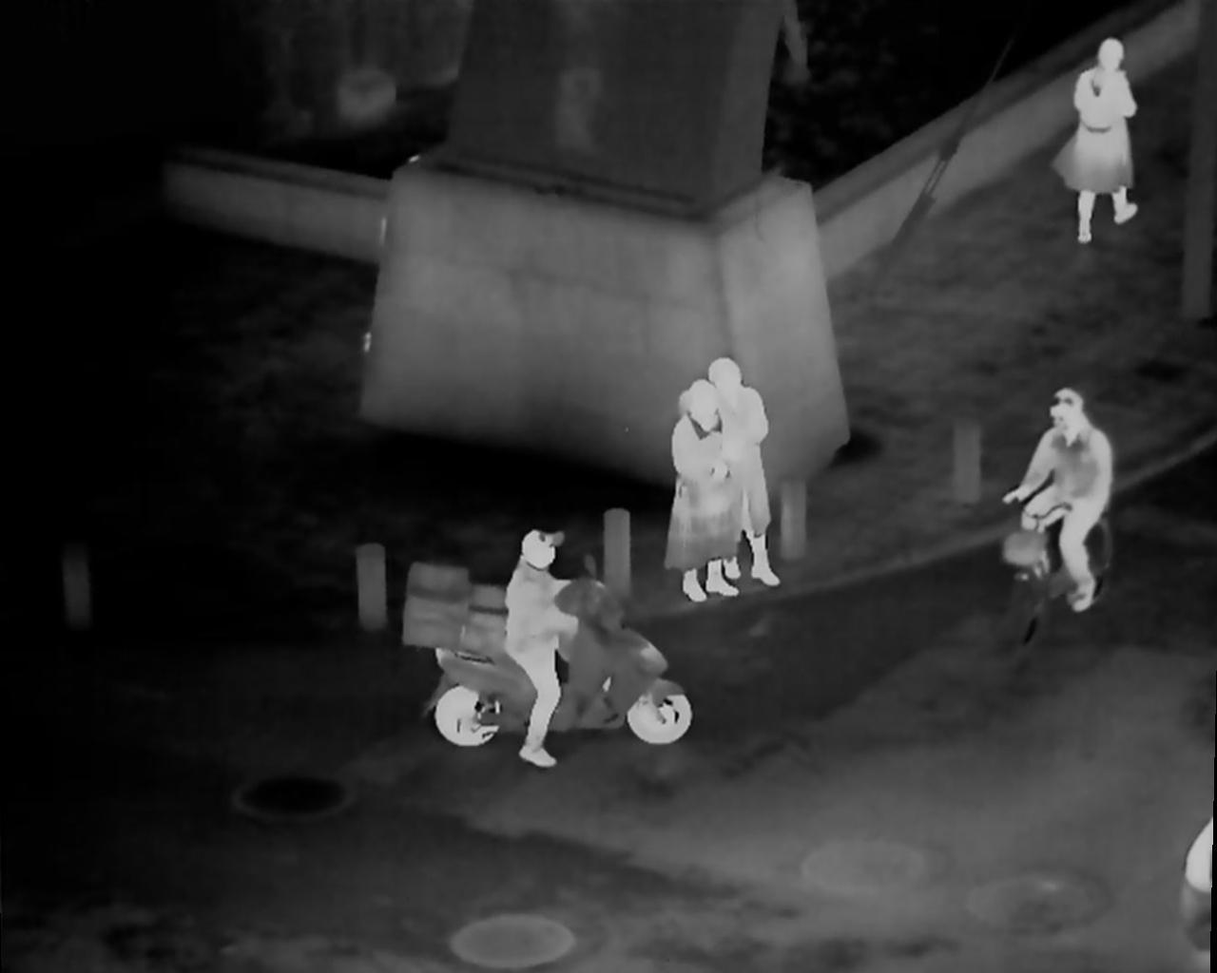person: (1006, 390, 1114, 619), (665, 381, 743, 603), (709, 356, 782, 593), (503, 525, 574, 768), (1071, 34, 1137, 245)
